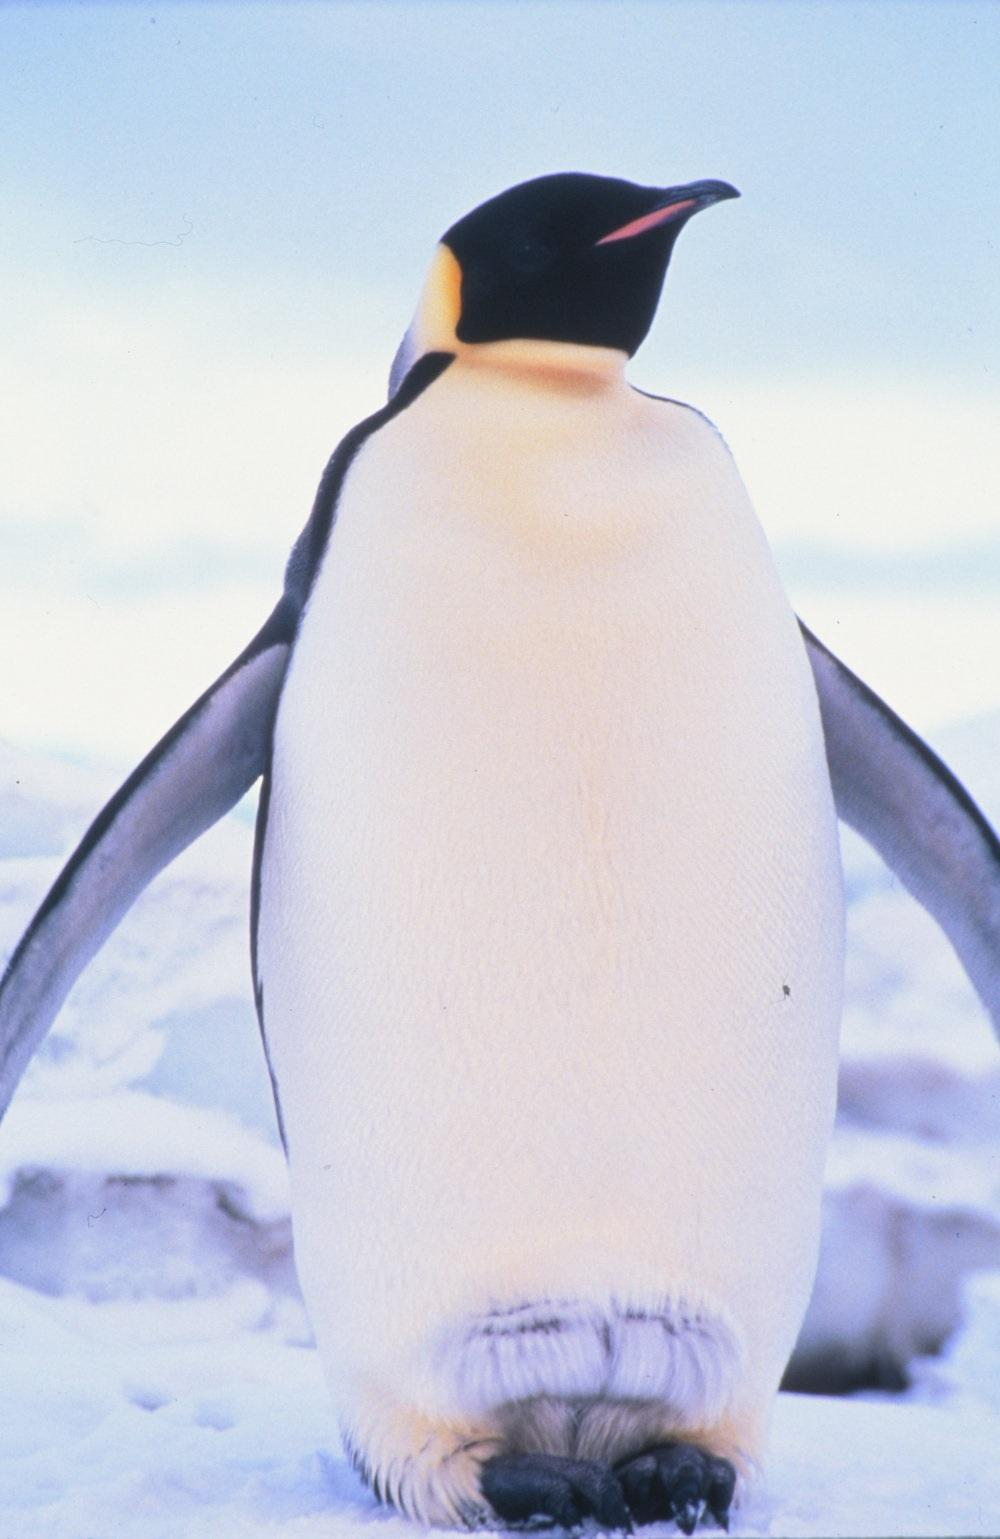emporer: (154, 83, 971, 1539)
